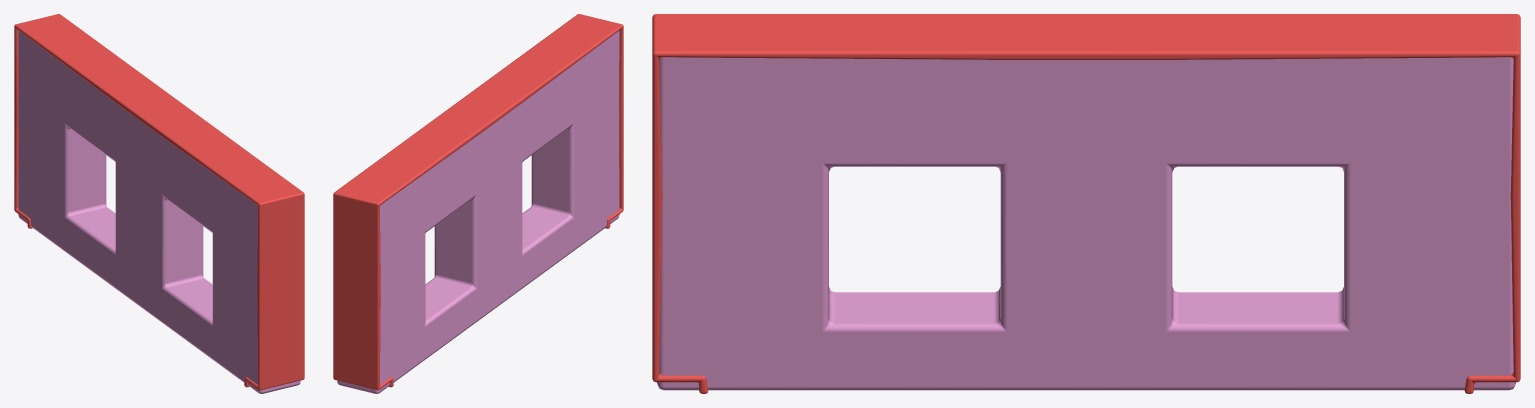
File: wall4.fbx
3 views of the same model, side by side, from view 1: azimuth 30°, elevation 25°; view 2: azimuth 150°, elevation 25°; view 3: azimuth 270°, elevation 25° (orthographic). The views are drawn at different scales.
Parts seen in each view (by area): view 1: wallInside.003, wallOutside.003; view 2: wallInside.003, wallOutside.003; view 3: wallInside.003, wallOutside.003.
Part boxes in pixels (box(x1,y1,x2,y2)): wallInside.003: box(18, 30, 300, 393); wallOutside.003: box(14, 14, 304, 390); wallInside.003: box(337, 30, 619, 393); wallOutside.003: box(333, 14, 623, 390); wallInside.003: box(657, 57, 1515, 390); wallOutside.003: box(652, 14, 1520, 393).
Bounding box in the file's own units: 218 × 878 × 2014.
